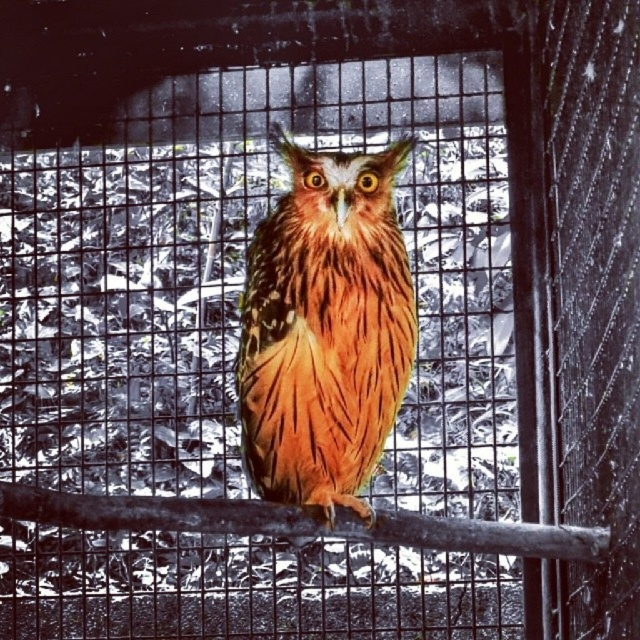Owl: (236, 105, 427, 525)
